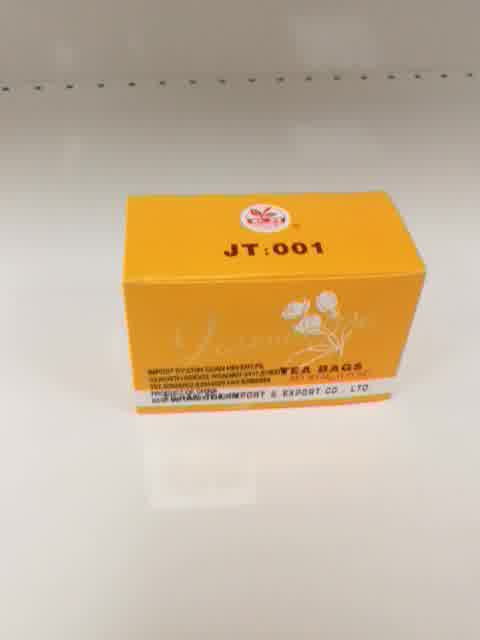jasminetea: (122, 190, 426, 415)
